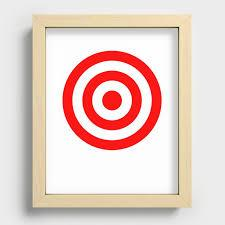target_red: (61, 49, 161, 150)
